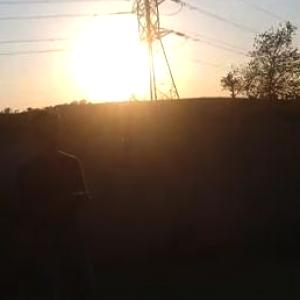follow: (13, 106, 99, 299)
